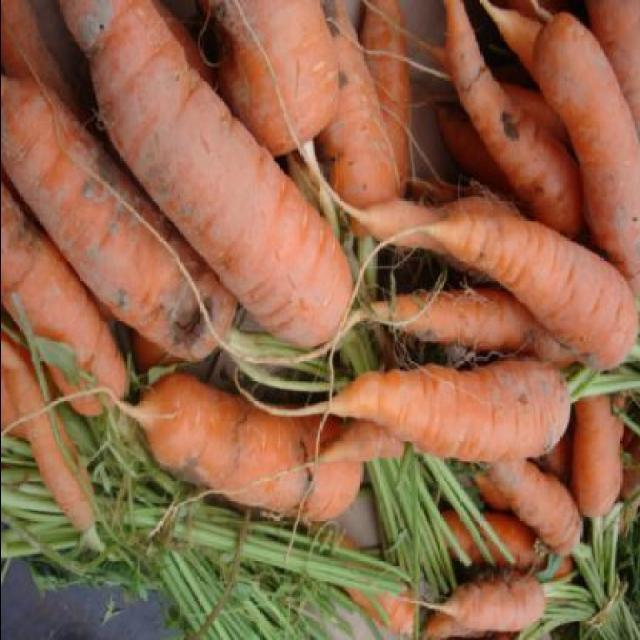Carrot: (231, 0, 640, 640), (55, 0, 358, 357), (1, 6, 181, 534), (3, 372, 366, 520)
